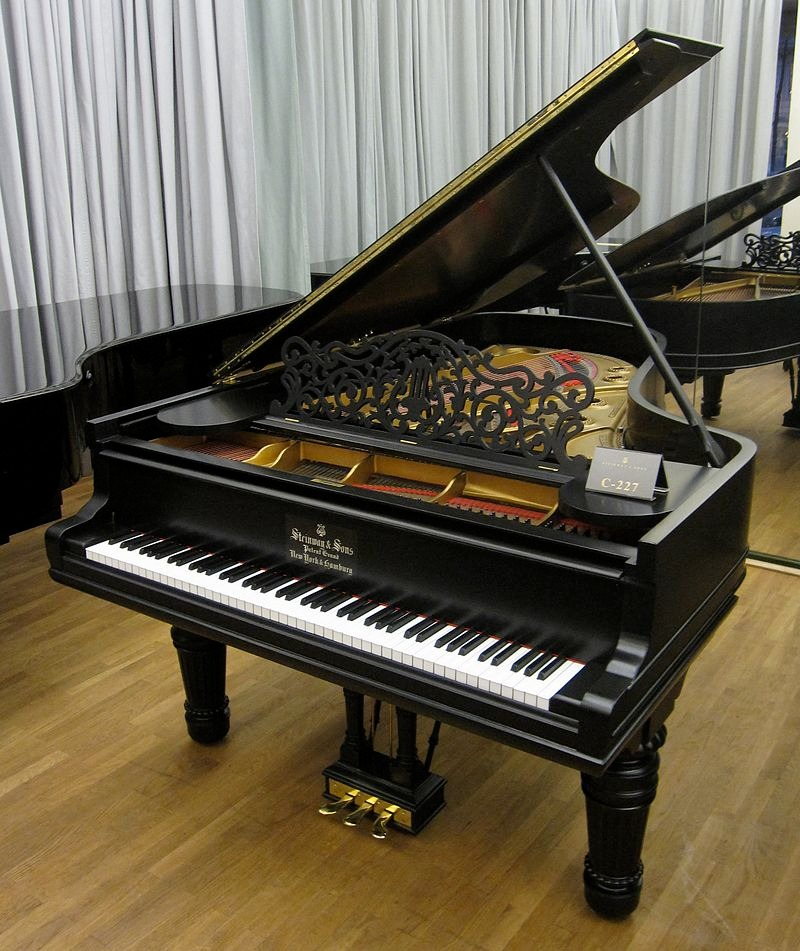Piano: (35, 21, 777, 933)
